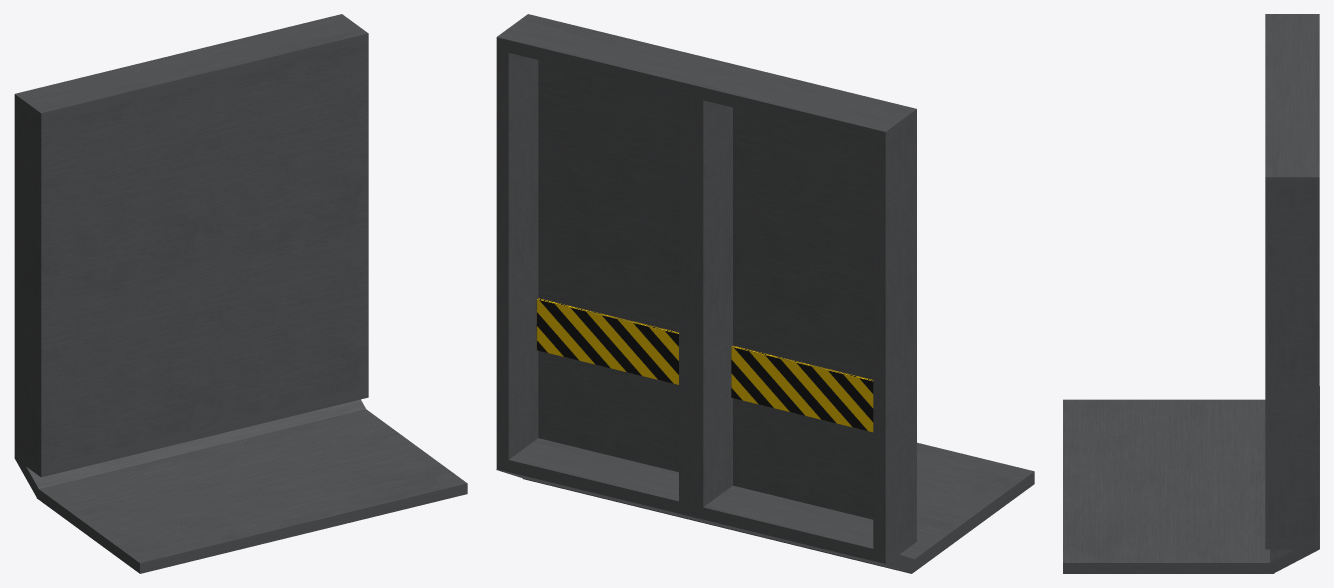
Rendered from metal_bridge_left.obj.
3 views of the same model, side by side, from view 1: azimuth 30°, elevation 25°; view 2: azimuth 150°, elevation 25°; view 3: azimuth 270°, elevation 25° (orthographic). The views are drawn at different scales.
Parts seen in each view (by area): view 1: cube; view 2: cube; view 3: cube.
Part boxes in pixels (<box>): cube: <box>14,14,467,573</box>; cube: <box>496,14,1034,573</box>; cube: <box>1063,14,1319,573</box>.
Size of the model in its own units: 2 by 2.27 by 1.33.
Materials: 2 (2 with a texture image).
